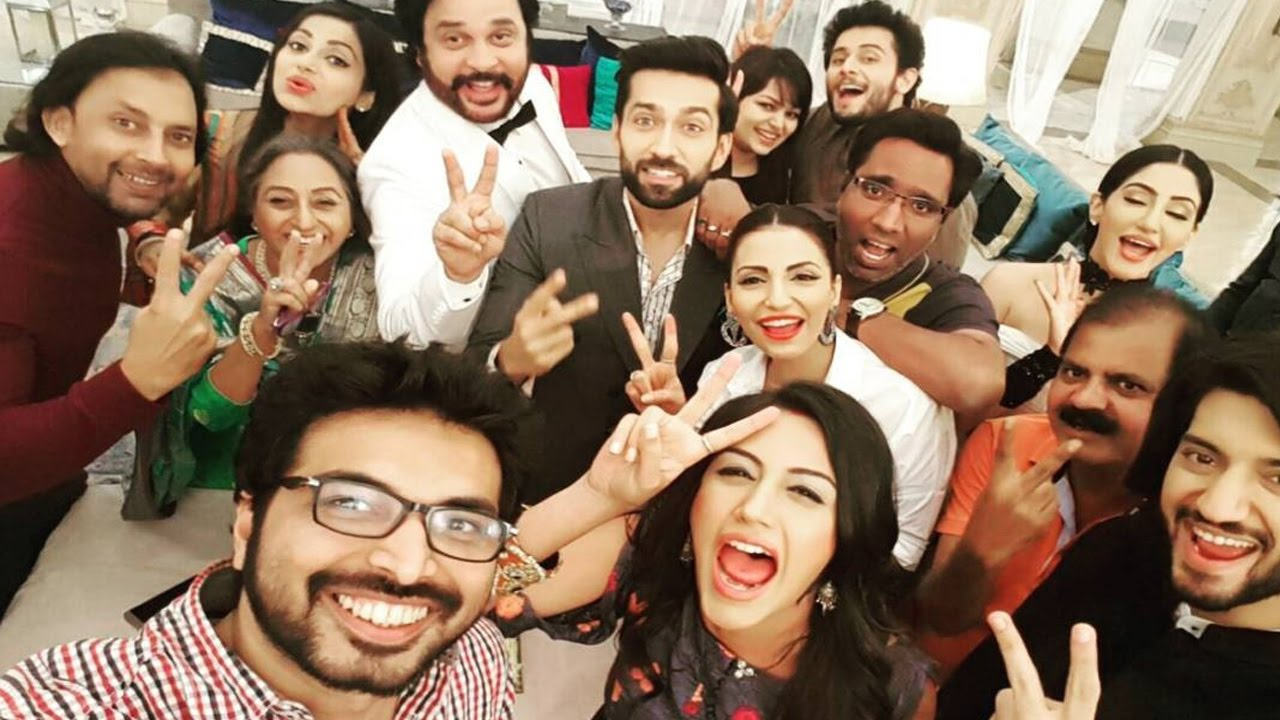bad: (260, 409, 527, 676), (1129, 407, 1280, 593), (683, 442, 838, 597), (81, 82, 210, 211), (724, 247, 832, 355), (832, 163, 939, 271), (426, 8, 533, 116), (1095, 175, 1202, 283), (617, 92, 724, 199), (265, 26, 354, 116), (255, 176, 344, 265), (818, 30, 892, 105), (735, 88, 809, 163)
